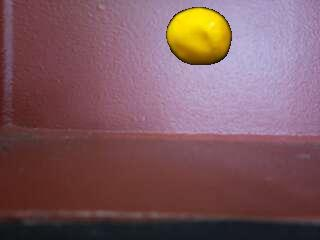Lemon: (166, 7, 232, 65)
